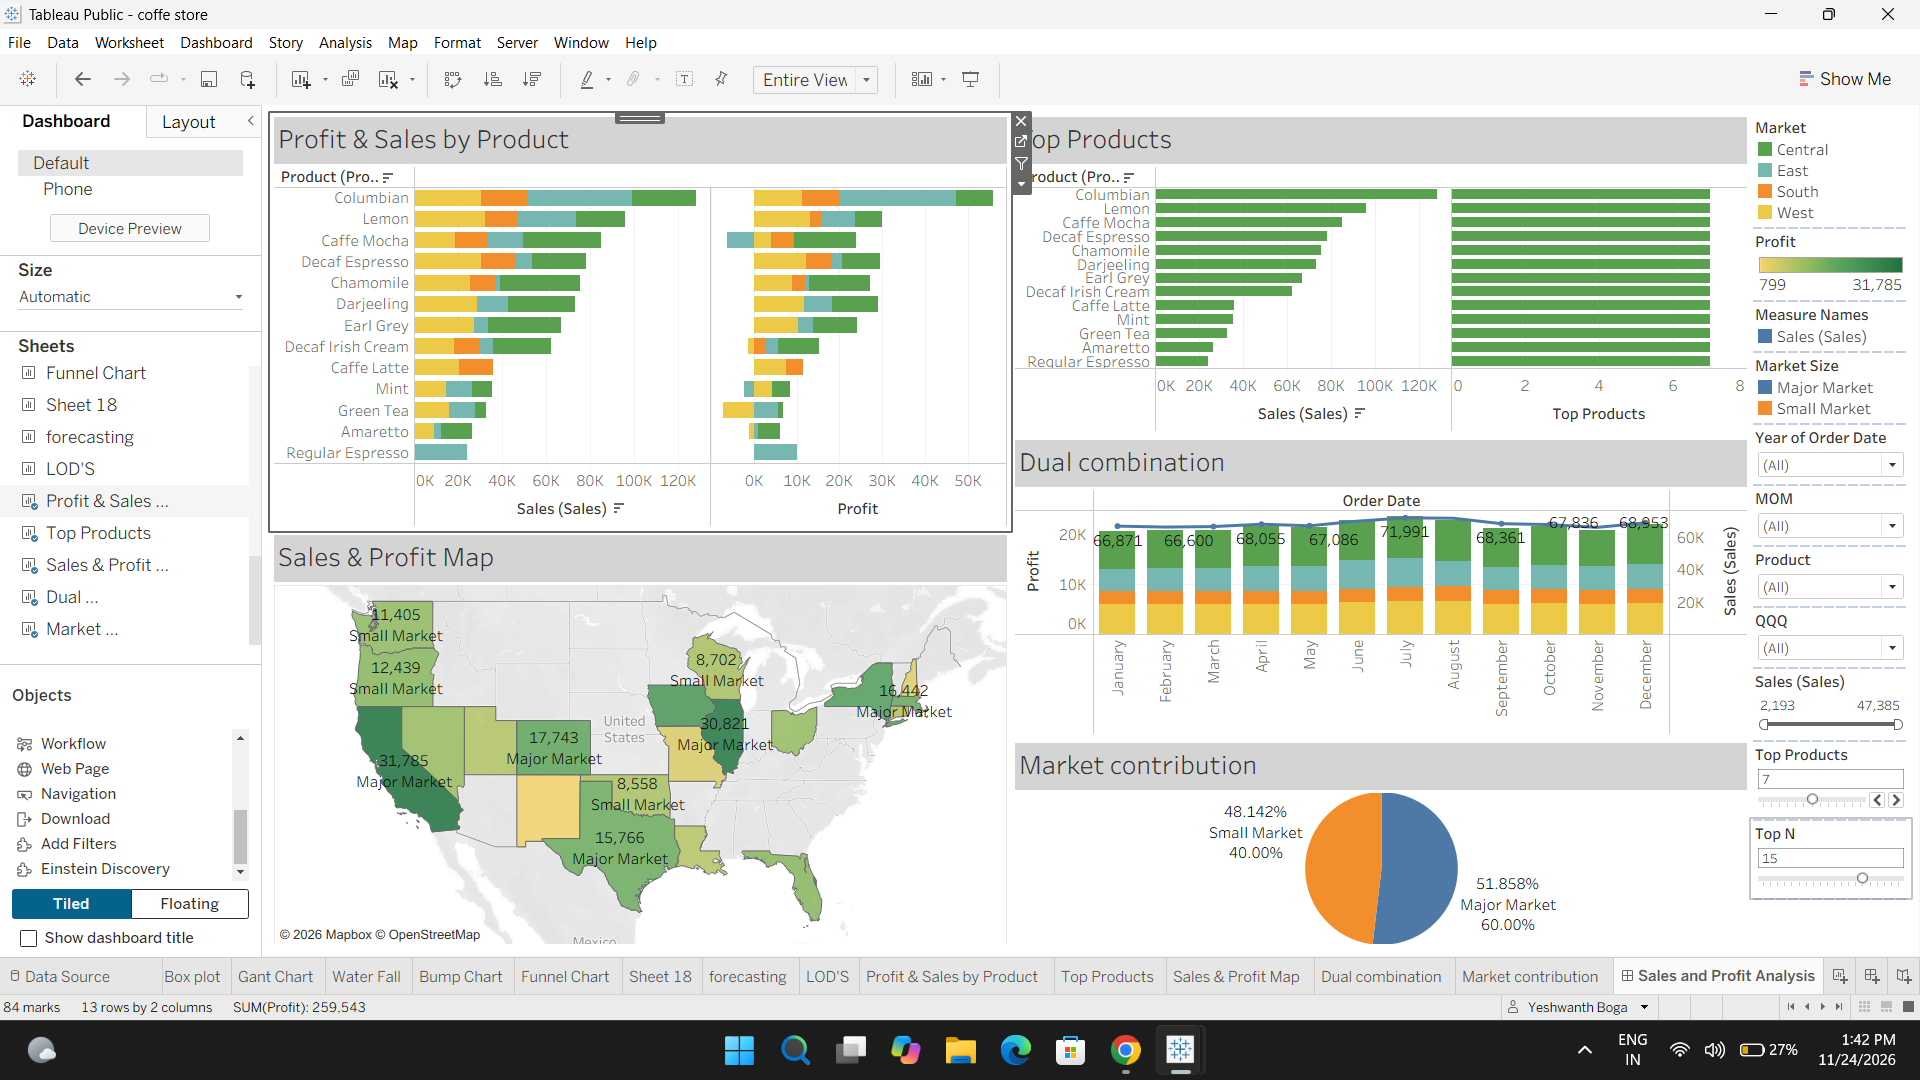

This screenshot's page, from the dashboard's own definition file:
{"tool":"tableau","page":{"name":"Sales and Profit Analysis","canvas":[1000,1000],"units":"permille","ordinal":0},"visuals":[{"type":"worksheet","title":"Profit & Sales by Product","mark":"Automatic","rows":["Product"],"cols":["Sales","Profit"],"box":[4.8,9.4,446.9,490.6]},{"type":"worksheet","title":"Top Products","mark":"Automatic","rows":["Product"],"cols":["Sales"],"box":[451.7,9.4,446.9,379.6]},{"type":"legend","title":"Profit & Sales by Product","param":"[federated.1fxe1zw06suom817fpi021iije65].[none:Market:nk]","box":[898.6,9.4,96.6,106.9]},{"type":"legend","title":"Sales & Profit Map","param":"[federated.1fxe1zw06suom817fpi021iije65].[sum:Profit:qk]","box":[898.6,116.3,96.6,85.8]},{"type":"legend","title":"Dual combination","param":"[federated.1fxe1zw06suom817fpi021iije65].[:Measure Names]","box":[898.6,202.1,96.6,59.9]},{"type":"legend","title":"Market contribution","param":"[federated.1fxe1zw06suom817fpi021iije65].[none:Market Size:nk]","box":[898.6,262.1,96.6,84.6]},{"type":"filter","title":"Profit & Sales by Product","param":"[federated.1fxe1zw06suom817fpi021iije65].[yr:Order Date:ok]","box":[898.6,346.7,96.6,71.7]},{"type":"worksheet","title":"Dual combination","mark":"Bar","rows":["Profit","Sales"],"cols":["Order Date"],"box":[451.7,388.9,446.9,356.4]},{"type":"filter","title":"Profit & Sales by Product","param":"[federated.1fxe1zw06suom817fpi021iije65].[mn:Order Date:ok]","box":[898.6,418.3,96.6,71.7]},{"type":"filter","title":"Profit & Sales by Product","param":"[federated.1fxe1zw06suom817fpi021iije65].[none:Product:nk]","box":[898.6,490,96.6,71.7]},{"type":"worksheet","title":"Sales & Profit Map","mark":"Multipolygon","box":[4.8,500,446.9,490.6]},{"type":"filter","title":"Profit & Sales by Product","param":"[federated.1fxe1zw06suom817fpi021iije65].[qr:Order Date:ok]","box":[898.6,561.7,96.6,71.7]},{"type":"filter","title":"Profit & Sales by Product","param":"[federated.1fxe1zw06suom817fpi021iije65].[sum:Sales:qk]","box":[898.6,633.4,96.6,85.8]},{"type":"parameter","param":"[Parameters].[Parameter 1044812327022593]","box":[898.6,719.2,96.6,92.8]},{"type":"worksheet","title":"Market contribution","mark":"Pie","box":[451.7,745.3,446.9,245.3]},{"type":"parameter","param":"[Parameters].[Parameter 1172972127006720]","box":[898.6,812,96.6,92.8]},{"type":"filter","title":"Profit & Sales by Product","param":"[federated.1fxe1zw06suom817fpi021iije65].[sum:Profit:qk]","box":[898.6,904.8,96.6,85.8]}]}

Visuals, with their boxes on the dashboard's canvas, which has no fixed pixel size, in thousandths of its width and height (x1, y1, x2, y2). These are canvas units, not pixel positions in the 1920x1080 screenshot, which may show the page scaled, cropped or inside an application window:
"Profit & Sales by Product" worksheet: [5,9,452,500]
"Top Products" worksheet: [452,9,899,389]
"Profit & Sales by Product" legend: [899,9,995,116]
"Sales & Profit Map" legend: [899,116,995,202]
"Dual combination" legend: [899,202,995,262]
"Market contribution" legend: [899,262,995,347]
"Profit & Sales by Product" filter: [899,347,995,418]
"Dual combination" worksheet (Bar marks): [452,389,899,745]
"Profit & Sales by Product" filter: [899,418,995,490]
"Profit & Sales by Product" filter: [899,490,995,562]
"Sales & Profit Map" worksheet (Multipolygon marks): [5,500,452,991]
"Profit & Sales by Product" filter: [899,562,995,633]
"Profit & Sales by Product" filter: [899,633,995,719]
parameter: [899,719,995,812]
"Market contribution" worksheet (Pie marks): [452,745,899,991]
parameter: [899,812,995,905]
"Profit & Sales by Product" filter: [899,905,995,991]
